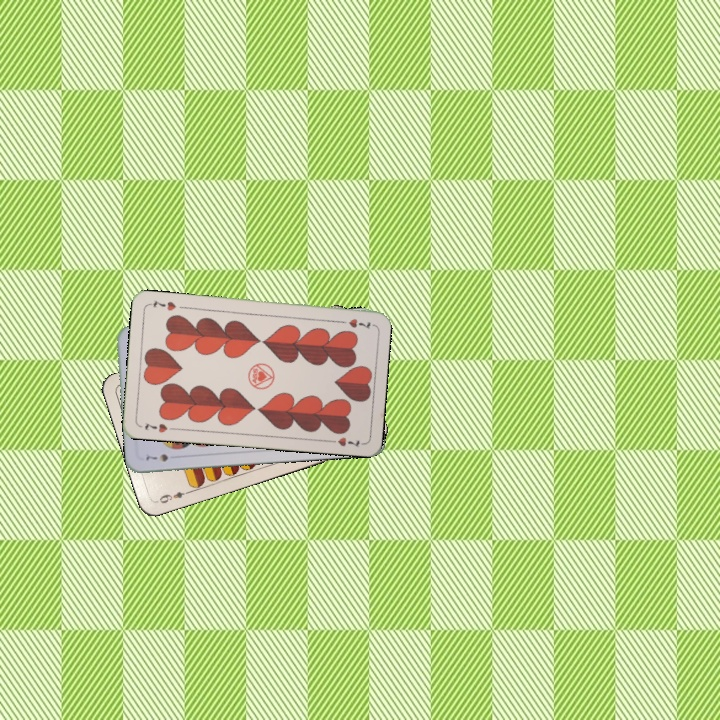E9: (153, 487, 193, 506)
H7: (334, 314, 375, 331), (141, 419, 178, 435)
S7: (142, 450, 171, 464)
